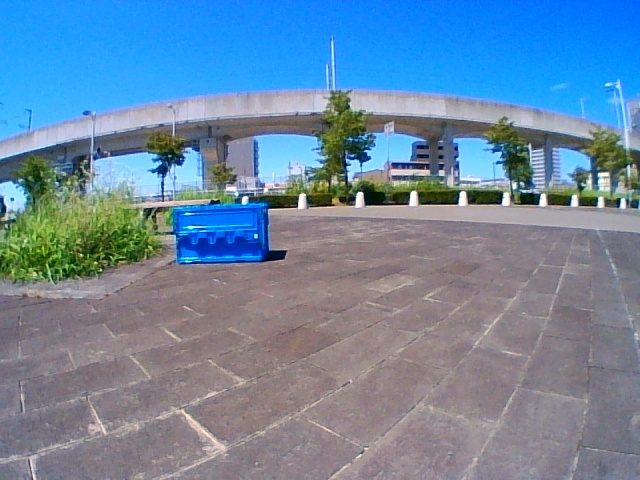blue_box: (178, 206, 268, 261)
